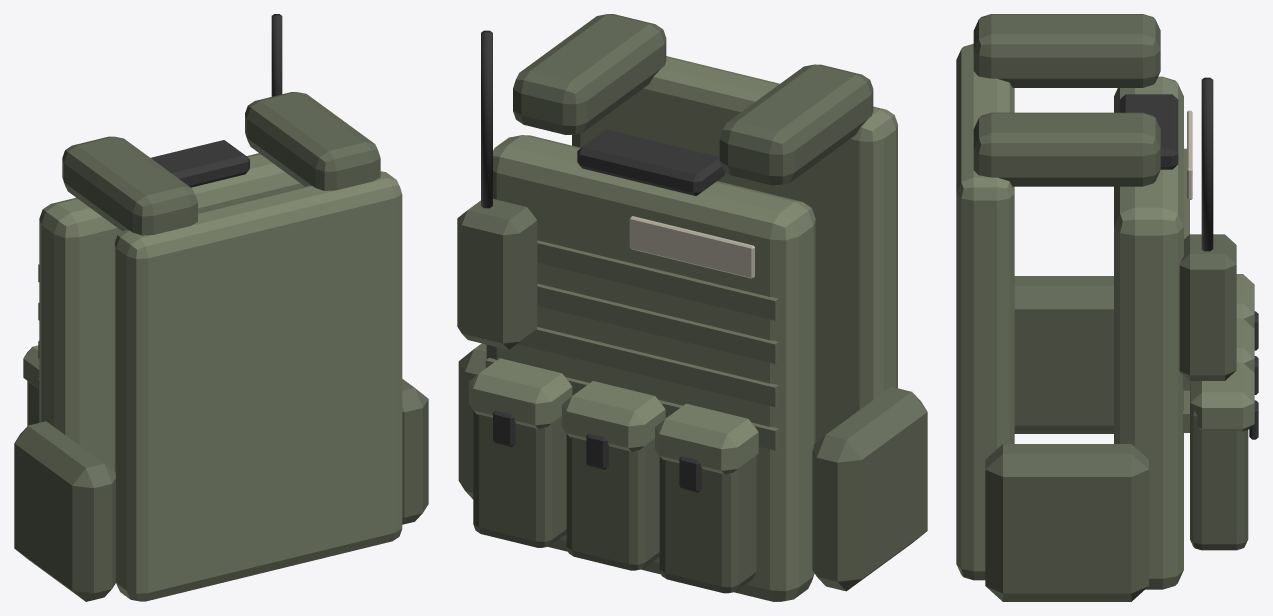
Rendered from vesta.glb.
3 renders of one model, left to right at view 1: azimuth 30°, elevation 25°; view 2: azimuth 150°, elevation 25°; view 3: azimuth 270°, elevation 25°, orthographic. The views are drawn at different scales.
Visible parts, largest first — view 1: Vesta; view 2: Vesta; view 3: Vesta.
Part boxes in pixels (x1,y1,x2,y2): Vesta: (14, 14, 428, 601); Vesta: (457, 14, 927, 601); Vesta: (956, 14, 1258, 601).
Bounding box in the file's own units: 0.39 × 0.48 × 0.259.
